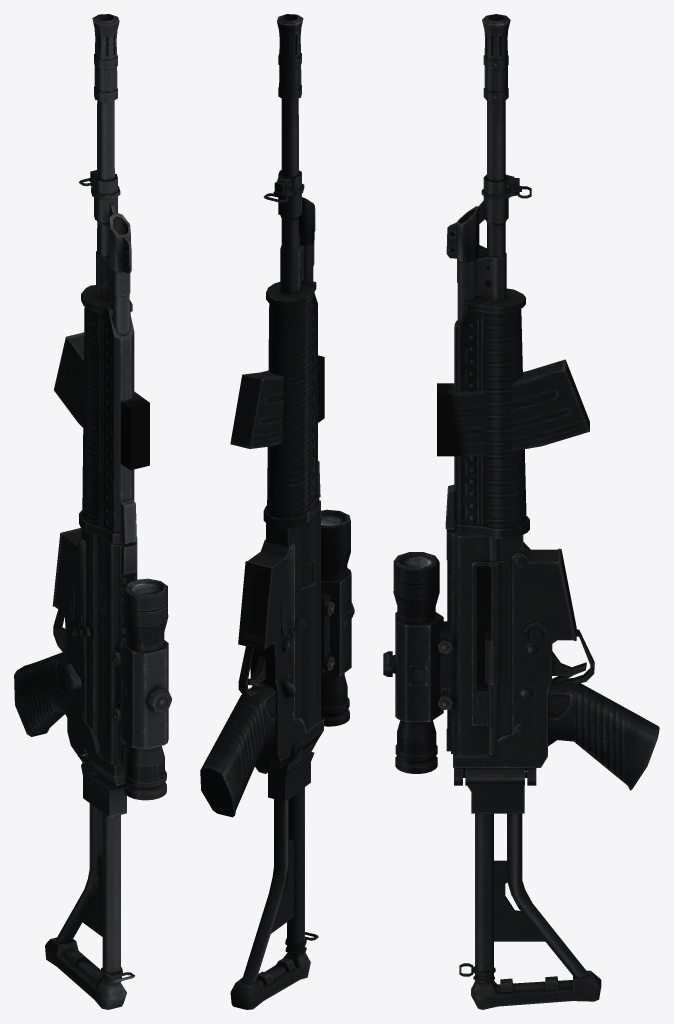
Rendered from Pindad_SS2_V4.obj.
The picture shows the model from 3 angles, left to right: view 1: azimuth 30°, elevation 25°; view 2: azimuth 150°, elevation 25°; view 3: azimuth 270°, elevation 25°; orthographic projection. The views are drawn at different scales.
Visible parts, largest first — view 1: SS2-V4_Para_Sniper_LOD0, SS2-V4_Para_Sniper_socpe, SS2-V4_Para_Sniper_LOD0_Magazine; view 2: SS2-V4_Para_Sniper_LOD0, SS2-V4_Para_Sniper_socpe, SS2-V4_Para_Sniper_LOD0_Magazine; view 3: SS2-V4_Para_Sniper_LOD0, SS2-V4_Para_Sniper_socpe, SS2-V4_Para_Sniper_LOD0_Magazine.
Part boxes in pixels (bbox=[...]): SS2-V4_Para_Sniper_LOD0: bbox=[14, 14, 137, 1009]; SS2-V4_Para_Sniper_socpe: bbox=[111, 578, 171, 800]; SS2-V4_Para_Sniper_LOD0_Magazine: bbox=[54, 332, 149, 470]; SS2-V4_Para_Sniper_LOD0: bbox=[200, 14, 323, 1009]; SS2-V4_Para_Sniper_socpe: bbox=[321, 509, 354, 726]; SS2-V4_Para_Sniper_LOD0_Magazine: bbox=[230, 355, 324, 448]; SS2-V4_Para_Sniper_LOD0: bbox=[445, 14, 659, 1009]; SS2-V4_Para_Sniper_socpe: bbox=[383, 552, 452, 773]; SS2-V4_Para_Sniper_LOD0_Magazine: bbox=[437, 359, 589, 456].
Bounding box in the file's own units: 0.0391 × 0.9395 × 0.2383.
2 materials, 2 textured.
